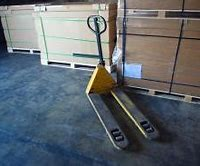Pallet Jack: (85, 14, 164, 151)
